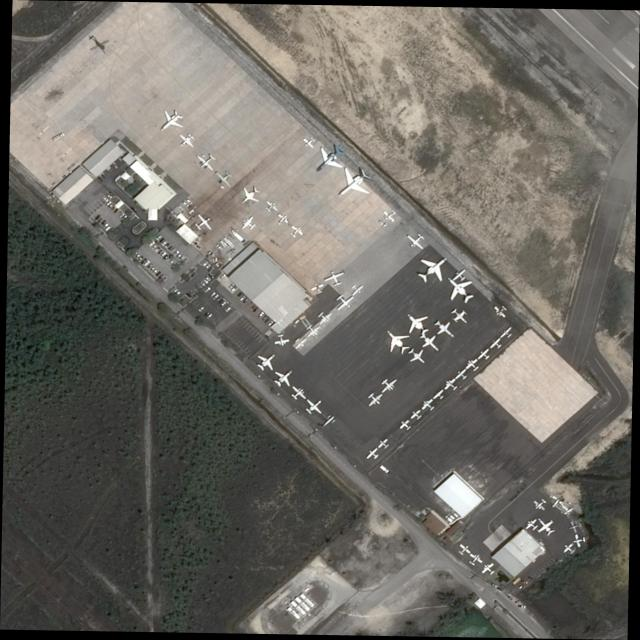plane: (327, 160, 380, 209), (306, 139, 352, 182), (411, 248, 456, 289), (438, 270, 481, 309), (377, 323, 416, 359), (399, 307, 435, 340), (152, 106, 188, 138), (234, 182, 265, 210), (430, 316, 459, 343), (269, 365, 299, 391), (253, 348, 281, 375), (416, 330, 445, 356), (531, 513, 559, 539), (300, 393, 328, 419), (404, 344, 431, 369), (194, 150, 220, 174), (191, 211, 217, 235), (403, 230, 429, 254), (332, 290, 358, 314), (211, 167, 238, 190), (376, 374, 402, 396), (448, 305, 472, 328), (175, 130, 198, 152), (322, 268, 347, 288), (363, 389, 386, 410), (287, 384, 309, 403), (318, 412, 339, 431), (239, 214, 259, 233), (302, 322, 323, 340), (463, 356, 482, 375), (418, 396, 438, 414), (261, 198, 281, 216), (380, 207, 400, 225), (441, 376, 460, 394), (479, 560, 498, 578), (315, 309, 334, 327), (465, 551, 485, 568), (290, 334, 310, 351), (531, 496, 549, 514), (287, 223, 306, 240), (450, 268, 469, 285), (491, 303, 510, 320), (347, 281, 366, 298), (560, 541, 578, 558), (364, 446, 382, 463), (475, 347, 493, 364), (498, 325, 516, 342), (523, 516, 541, 533), (273, 211, 291, 228), (453, 367, 470, 384), (487, 336, 505, 352), (300, 134, 318, 150), (455, 542, 473, 557), (567, 519, 583, 534), (375, 437, 391, 452), (397, 418, 413, 433), (408, 407, 424, 422), (572, 533, 587, 548), (273, 334, 290, 347), (309, 282, 326, 295), (432, 389, 447, 403)
small-vehicle: (447, 512, 456, 521), (444, 515, 454, 523), (239, 295, 247, 302), (224, 306, 232, 313), (203, 287, 212, 293), (209, 291, 216, 298), (163, 254, 170, 261), (140, 258, 147, 265), (143, 260, 150, 267), (215, 296, 223, 302), (257, 311, 265, 317), (198, 306, 206, 312), (182, 202, 190, 208), (148, 241, 156, 247), (252, 307, 259, 313), (261, 315, 268, 321), (204, 276, 211, 282), (202, 278, 209, 284), (220, 273, 227, 279), (213, 294, 220, 300), (230, 286, 237, 292), (206, 313, 213, 319), (161, 240, 168, 246), (185, 199, 192, 205), (156, 235, 163, 241), (151, 244, 158, 250), (154, 246, 161, 252), (204, 264, 211, 270), (146, 263, 153, 269), (106, 201, 112, 207), (200, 281, 206, 287), (243, 297, 249, 303), (221, 301, 227, 307), (218, 298, 224, 304), (95, 214, 101, 220), (101, 220, 107, 226), (118, 213, 124, 219), (103, 223, 109, 229), (159, 237, 165, 243), (149, 266, 155, 272), (158, 249, 164, 255), (160, 251, 166, 257), (202, 261, 208, 267), (138, 255, 144, 261), (228, 284, 235, 289), (155, 271, 162, 276), (190, 272, 197, 277), (237, 292, 243, 297), (111, 205, 116, 211), (268, 321, 274, 326), (158, 274, 164, 279), (152, 269, 158, 274), (178, 205, 184, 210), (114, 208, 119, 213), (98, 218, 103, 223), (165, 243, 170, 247), (168, 246, 173, 250)
